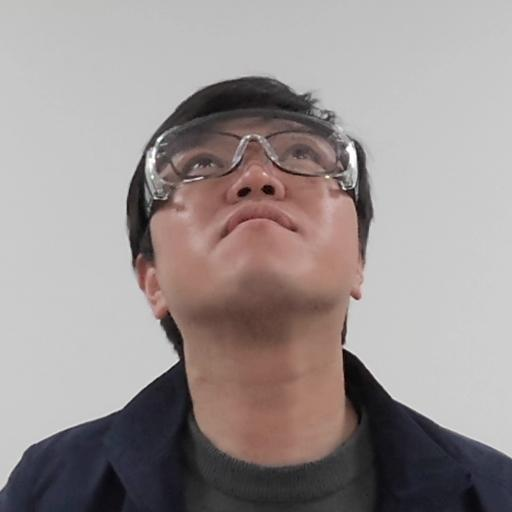glasses: (111, 82, 390, 339)
